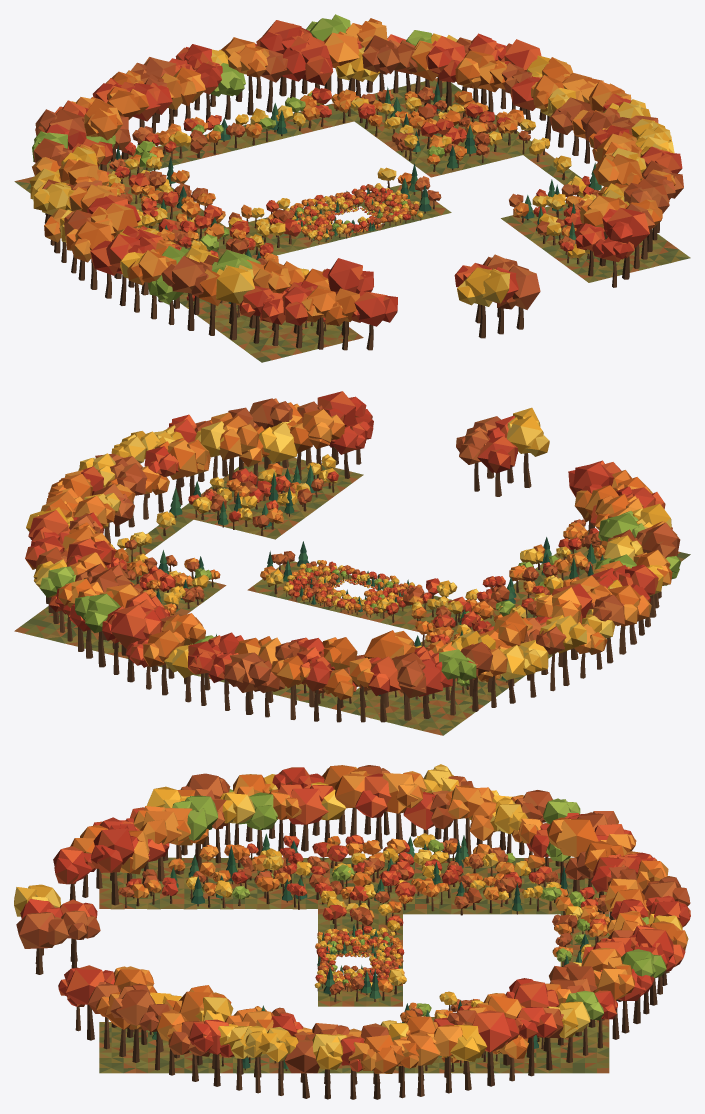
The model's file is TurkeyRace_LowPolyForest.glb.
The picture shows the model from 3 angles, top to bottom: view 1: azimuth 30°, elevation 25°; view 2: azimuth 150°, elevation 25°; view 3: azimuth 270°, elevation 25°; orthographic projection. The views are drawn at different scales.
Visible parts, largest first — view 1: Forest_Far4, Forest_Far7, Forest_Far8, Forest_Far6, Forest_Far3, Forest_Far1, Forest_Far5, Forest_Mid8, Forest_Far2, Forest_Ground2, Forest_Mid5, Forest_Ground3 (+11 smaller); view 2: Forest_Far6, Forest_Far5, Forest_Far1, Forest_Far7, Forest_Far4, Forest_Far8, Forest_Far3, Forest_Far2, Forest_Ground4, Forest_Mid1, Forest_Mid4, Forest_Mid8 (+11 smaller); view 3: Forest_Far8, Forest_Far4, Forest_Far1, Forest_Far5, Forest_Far7, Forest_Mid5, Forest_Far6, Forest_Mid4, Forest_Far3, Forest_Far2, Forest_Ground3, Forest_Ground4 (+9 smaller).
Part boxes in pixels (bbox=[...]): Forest_Far4: bbox=[65, 203, 304, 343]; Forest_Far7: bbox=[206, 14, 431, 119]; Forest_Far8: bbox=[411, 33, 631, 163]; Forest_Far6: bbox=[35, 44, 222, 171]; Forest_Far3: bbox=[260, 258, 518, 350]; Forest_Far1: bbox=[581, 99, 683, 252]; Forest_Far5: bbox=[29, 131, 140, 280]; Forest_Mid8: bbox=[377, 81, 549, 199]; Forest_Far2: bbox=[483, 195, 662, 329]; Forest_Ground2: bbox=[240, 78, 556, 213]; Forest_Mid5: bbox=[108, 173, 293, 250]; Forest_Ground3: bbox=[179, 229, 369, 362]; Forest_Far6: bbox=[188, 630, 452, 722]; Forest_Far5: bbox=[414, 583, 624, 715]; Forest_Far1: bbox=[78, 398, 297, 527]; Forest_Far7: bbox=[39, 563, 216, 702]; Forest_Far4: bbox=[570, 494, 680, 654]; Forest_Far8: bbox=[25, 466, 135, 623]; Forest_Far3: bbox=[477, 407, 665, 544]; Forest_Far2: bbox=[282, 391, 517, 491]; Forest_Ground4: bbox=[229, 604, 556, 735]; Forest_Mid1: bbox=[156, 463, 308, 566]; Forest_Mid4: bbox=[426, 545, 605, 618]; Forest_Mid8: bbox=[108, 531, 291, 609]; Forest_Far8: bbox=[340, 978, 590, 1099]; Forest_Far4: bbox=[126, 765, 371, 881]; Forest_Far1: bbox=[110, 983, 349, 1099]; Forest_Far5: bbox=[355, 764, 580, 882]; Forest_Far7: bbox=[549, 910, 688, 1055]; Forest_Mid5: bbox=[345, 833, 545, 935]; Forest_Far6: bbox=[546, 811, 690, 927]; Forest_Mid4: bbox=[168, 833, 358, 928]; Forest_Far3: bbox=[14, 817, 169, 963]; Forest_Far2: bbox=[16, 910, 157, 1057]; Forest_Ground3: bbox=[99, 857, 354, 963]; Forest_Ground4: bbox=[354, 857, 609, 965].
Bounding box in the file's own units: 2737 × 337 × 2717.
Materials: 1 (1 with a texture image).
